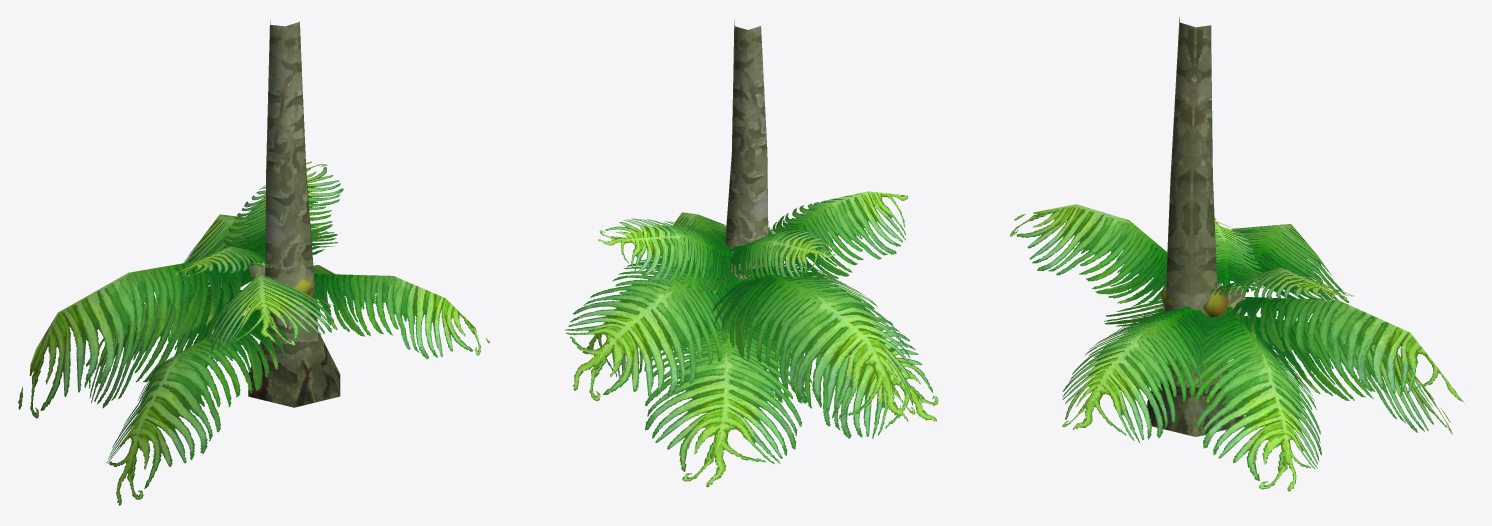
Rendered from nml-bd019.glb.
The picture shows the model from 3 angles, left to right: view 1: azimuth 30°, elevation 25°; view 2: azimuth 150°, elevation 25°; view 3: azimuth 270°, elevation 25°; orthographic projection. The views are drawn at different scales.
Parts seen in each view (by area): view 1: geom_node_1, geom_node_0; view 2: geom_node_1, geom_node_0; view 3: geom_node_1, geom_node_0.
Boxes of the visible parts, x1=… form: geom_node_1: x1=18, y1=161, x2=489, y2=505; geom_node_0: x1=248, y1=20, x2=340, y2=407; geom_node_1: x1=565, y1=191, x2=938, y2=487; geom_node_0: x1=725, y1=20, x2=768, y2=359; geom_node_1: x1=1010, y1=204, x2=1464, y2=491; geom_node_0: x1=1147, y1=17, x2=1244, y2=436.
Size of the model in its own units: 6.49 by 7.32 by 6.78.
3 materials, 3 textured.
